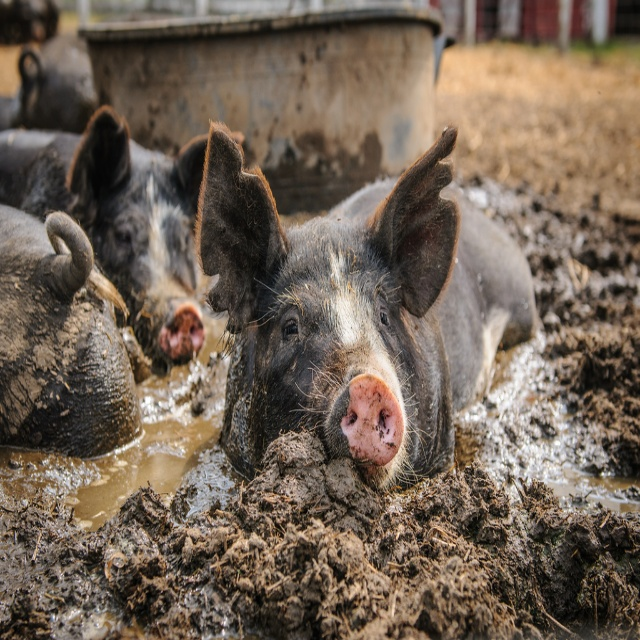Pig: (0, 33, 536, 498)
